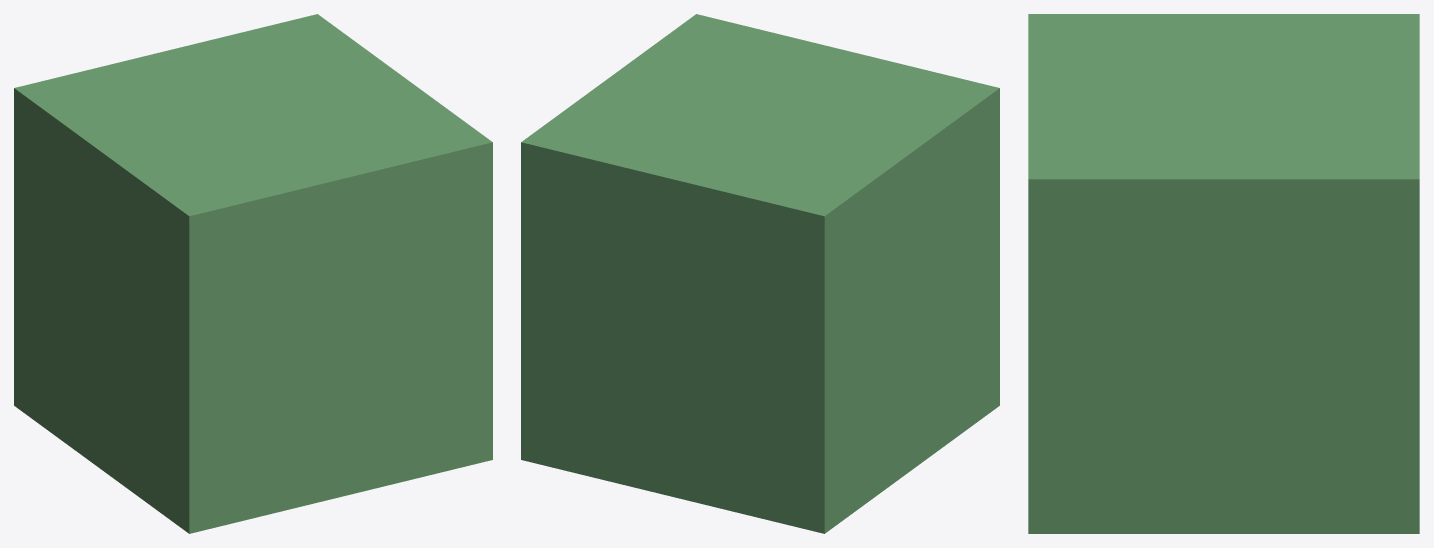
File: env_flower.glb
3 renders of one model, left to right at view 1: azimuth 30°, elevation 25°; view 2: azimuth 150°, elevation 25°; view 3: azimuth 270°, elevation 25°, orthographic. The views are drawn at different scales.
Parts seen in each view (by area): view 1: world; view 2: world; view 3: world.
Boxes of the visible parts, x1=… form: world: x1=14, y1=14, x2=492, y2=533; world: x1=521, y1=14, x2=999, y2=533; world: x1=1028, y1=14, x2=1419, y2=533.
Size of the model in its own units: 1 by 1 by 1.
